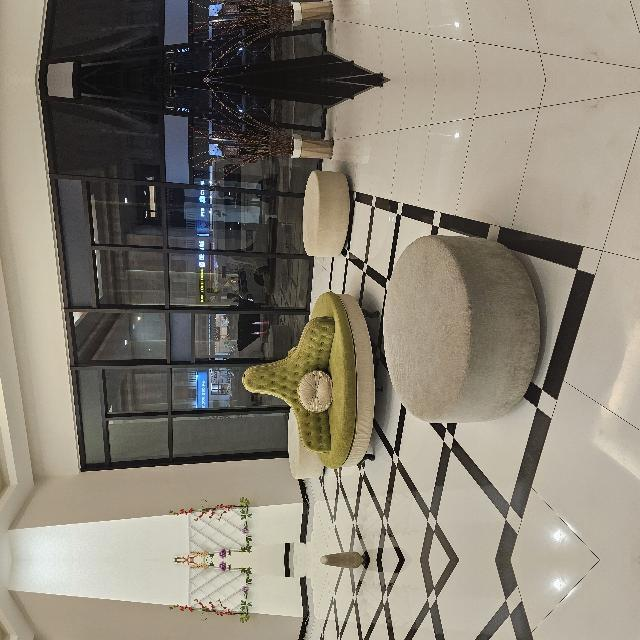obstacle: (135, 461, 327, 623), (135, 497, 327, 640), (90, 322, 270, 464), (368, 266, 474, 414), (301, 381, 391, 433), (78, 366, 154, 406)
